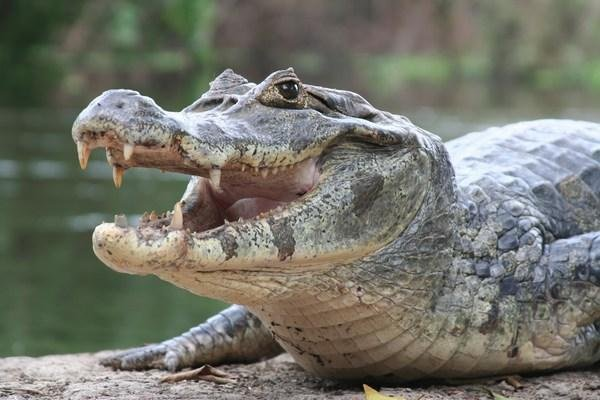Crocodile: (72, 64, 600, 374)
